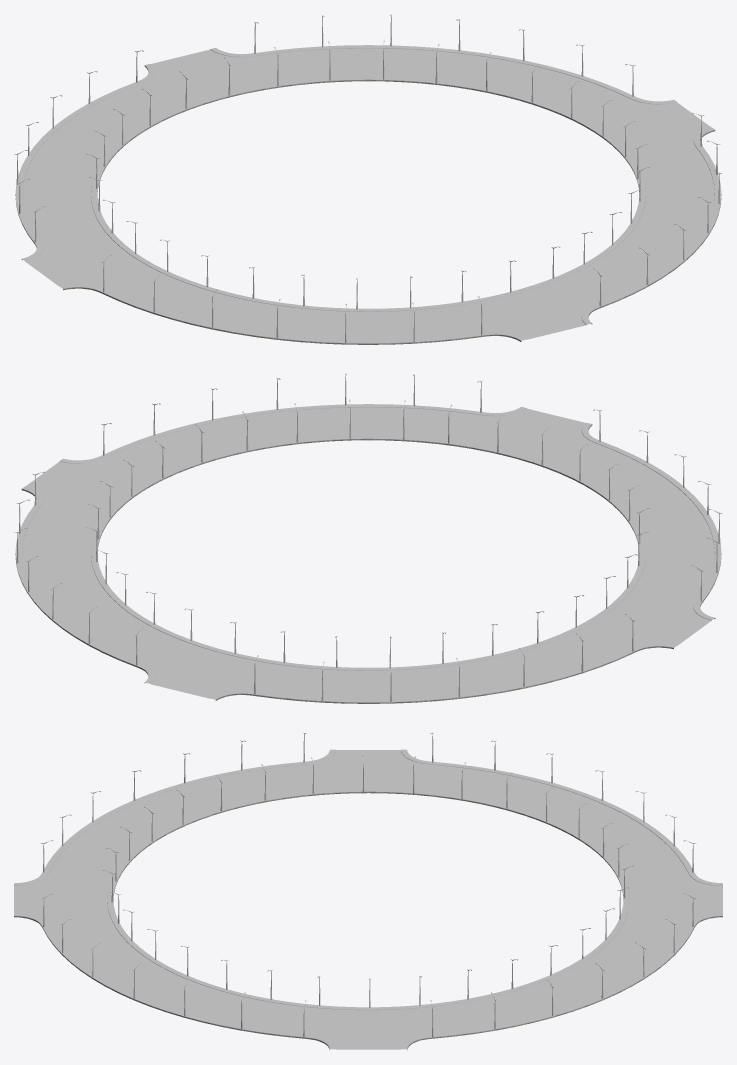
File: Big_Road_Ring.FBX
3 views of the same model, one above another, from view 1: azimuth 30°, elevation 25°; view 2: azimuth 150°, elevation 25°; view 3: azimuth 270°, elevation 25° (orthographic). The views are drawn at different scales.
Visible parts, largest first — view 1: Big_Road_ring (×2); view 2: Big_Road_ring (×2); view 3: Big_Road_ring (×2).
Part boxes in pixels (left/top/right/bottom): Big_Road_ring (×2): left=15, top=40, right=721, bottom=344; Big_Road_ring (×2): left=15, top=399, right=721, bottom=703; Big_Road_ring (×2): left=14, top=749, right=722, bottom=1050.
Size of the model in its own units: 20819 by 1104 by 20819.
